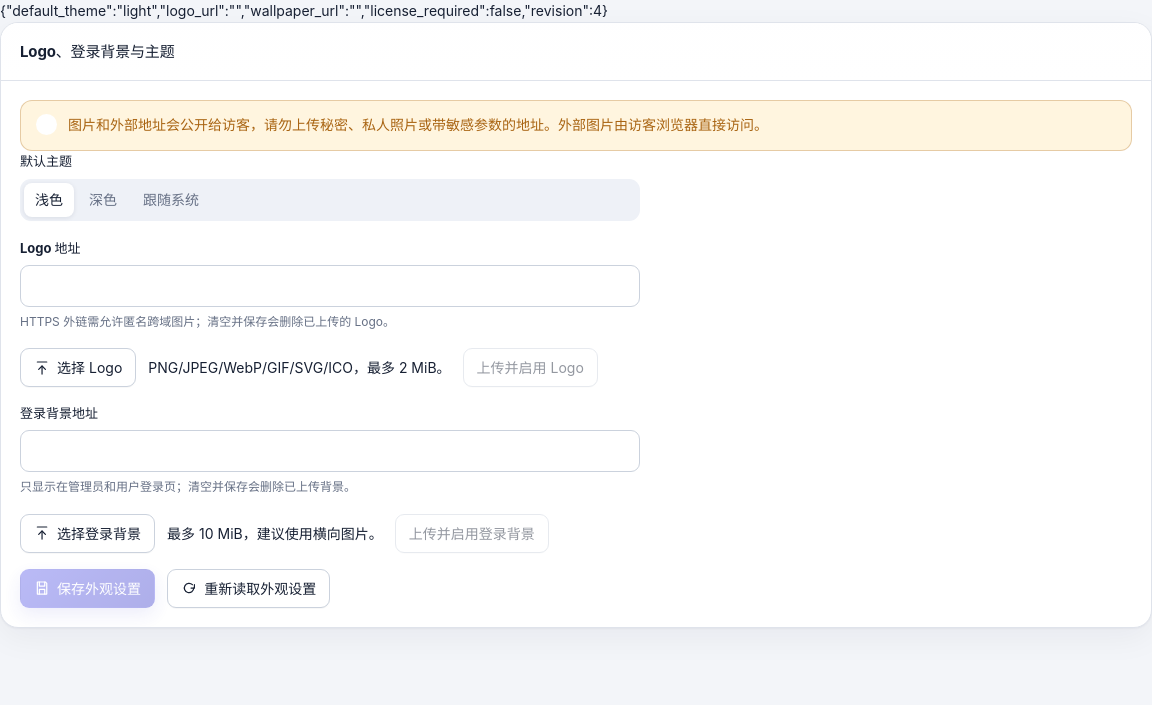
Scenario: appearance administration › closes saving after a conflict if rereading also fails
Step 1. Click the text "深色" → (103, 200), box [89,189,117,210]
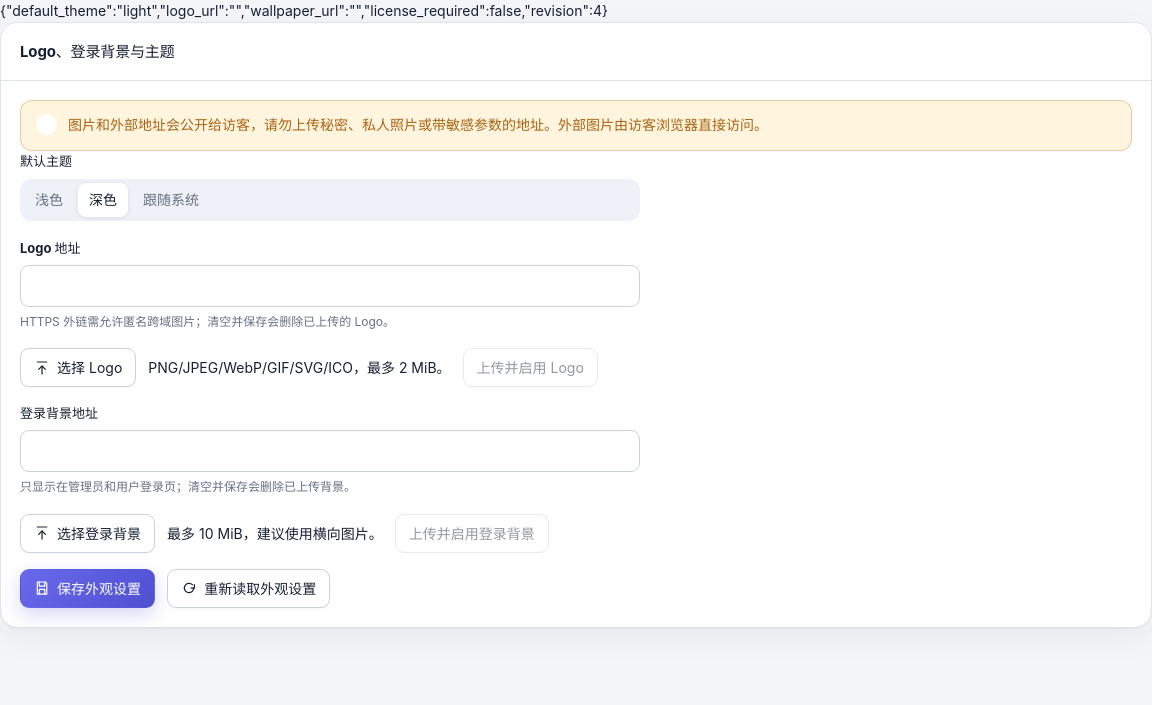
Step 2. Click the button "保存外观设置" → (88, 588), box [20,569,155,608]
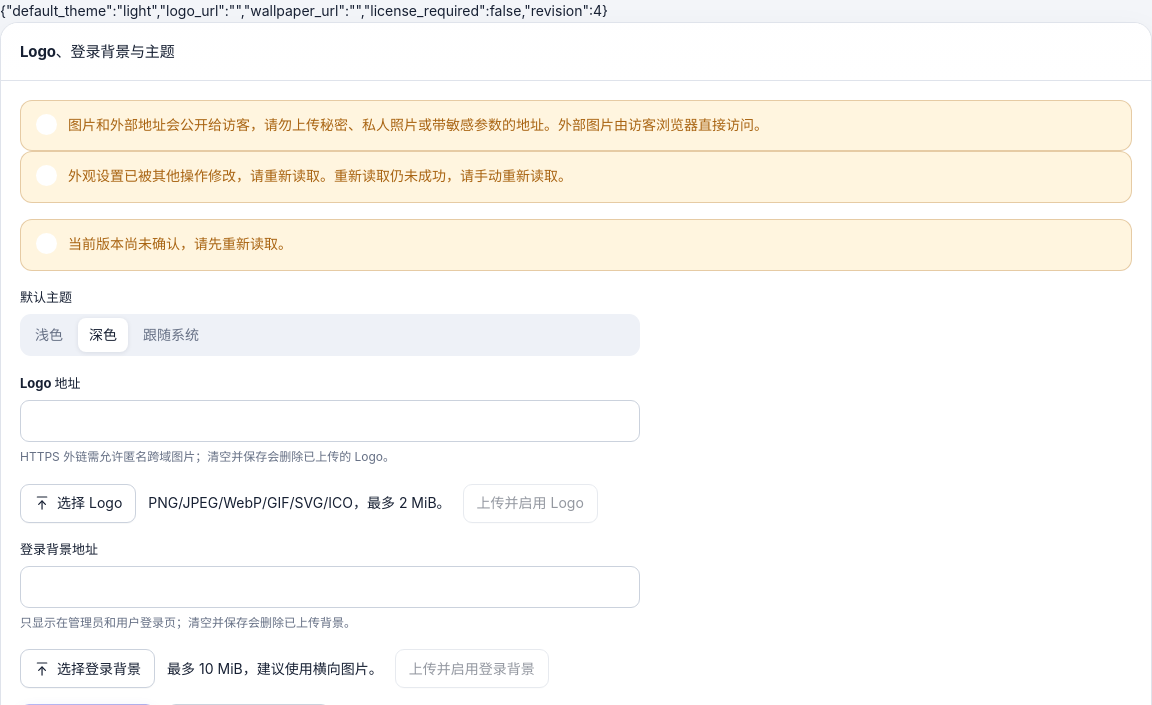
Result: the text "外观设置已被其他操作修改，请重新读取。重新读取仍未成功，请手动重新读取。" is shown at [68,167,572,184]
